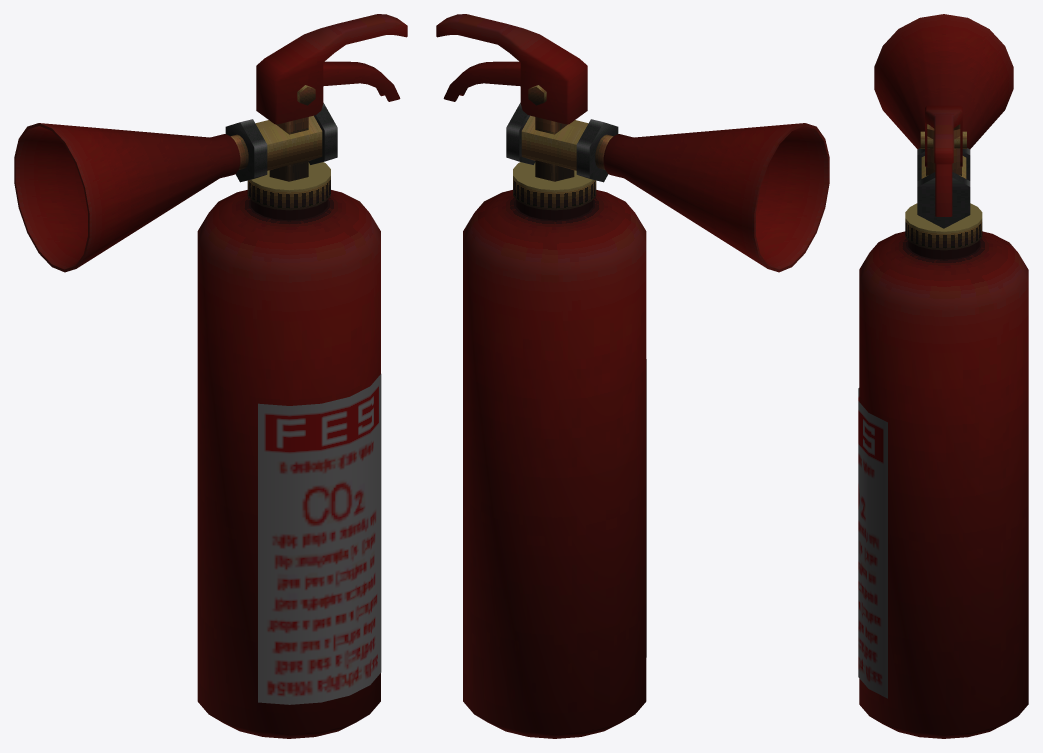
3 views of the same model, side by side, from view 1: azimuth 30°, elevation 25°; view 2: azimuth 150°, elevation 25°; view 3: azimuth 270°, elevation 25° (orthographic). The views are drawn at different scales.
Visible parts, largest first — view 1: 1650_fire_extin_4; view 2: 1650_fire_extin_4; view 3: 1650_fire_extin_4.
Boxes of the visible parts, <box> form: 1650_fire_extin_4: <box>14,14,407,738</box>; 1650_fire_extin_4: <box>436,14,829,738</box>; 1650_fire_extin_4: <box>858,14,1028,738</box>.
Size of the model in its own units: 3.92 by 7.09 by 1.77.
4 materials, 4 textured.
